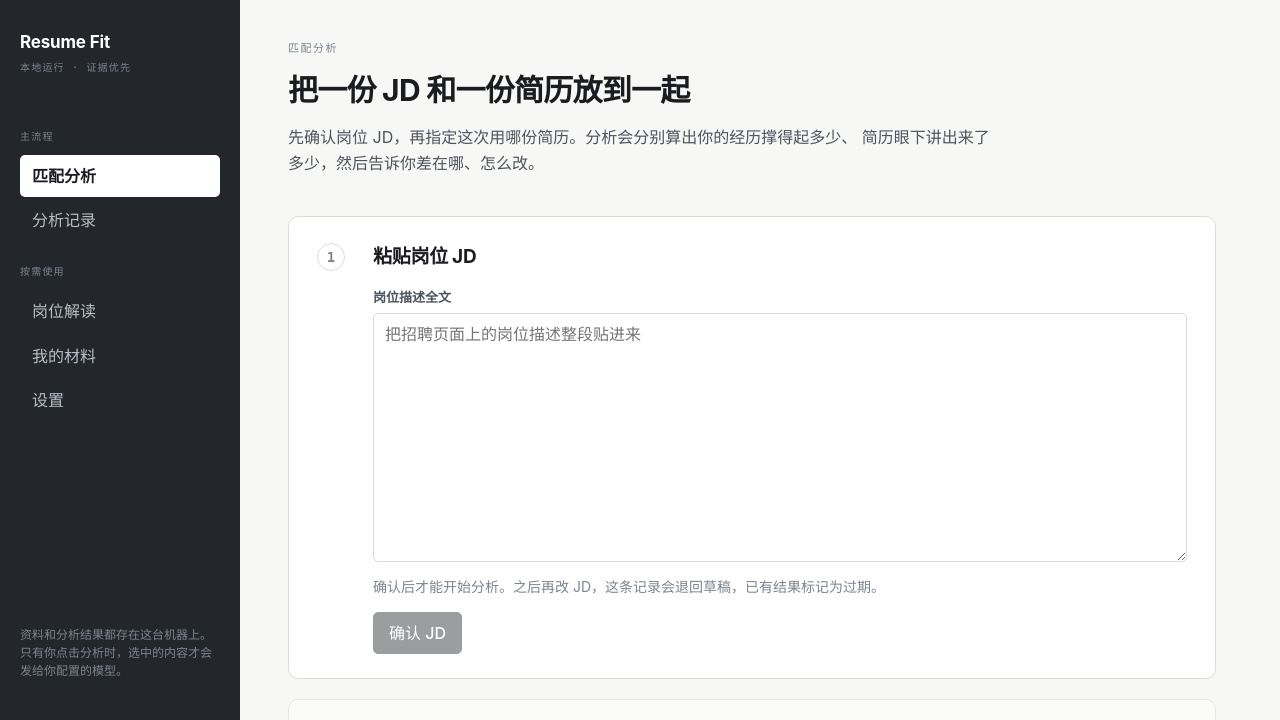
Test: history invites action when empty
Click the button "分析记录".
click(120, 221)  # box top-left (20, 199), bottom-right (220, 242)
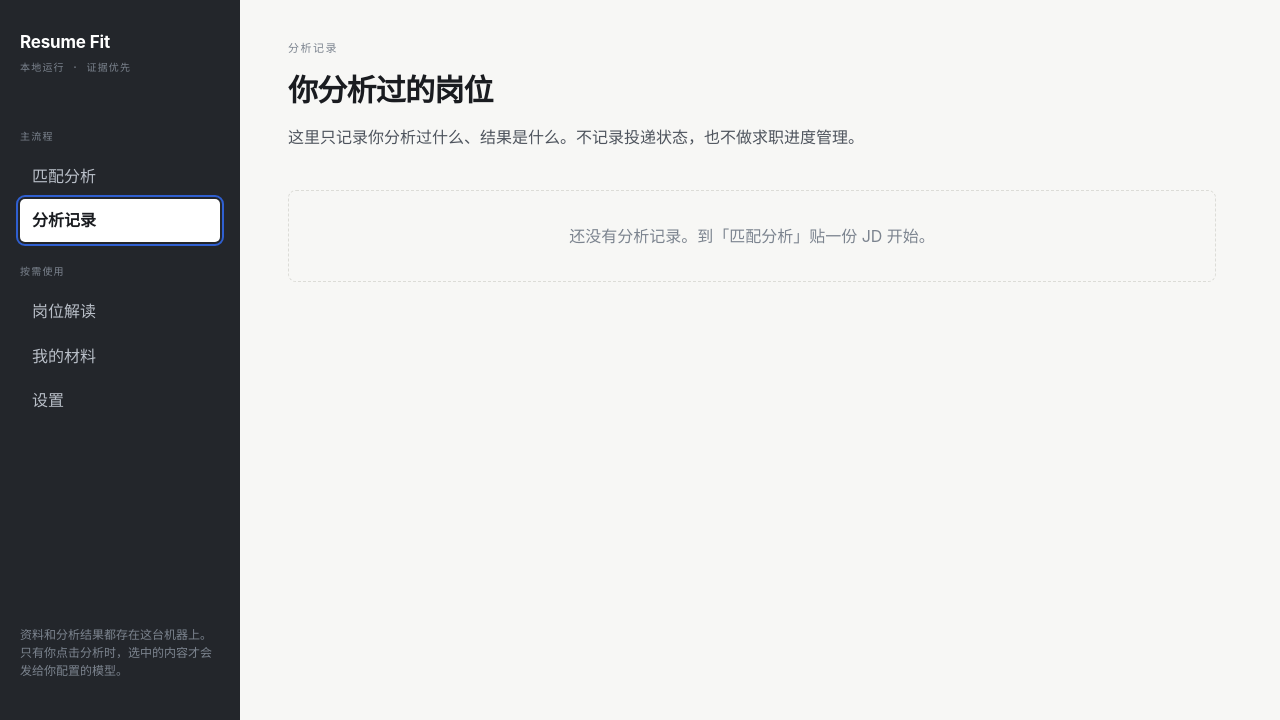
Expected: the text "还没有分析记录。到「匹配分析」贴一份 JD 开始。" is shown, top-left (288, 190), bottom-right (1216, 282)
